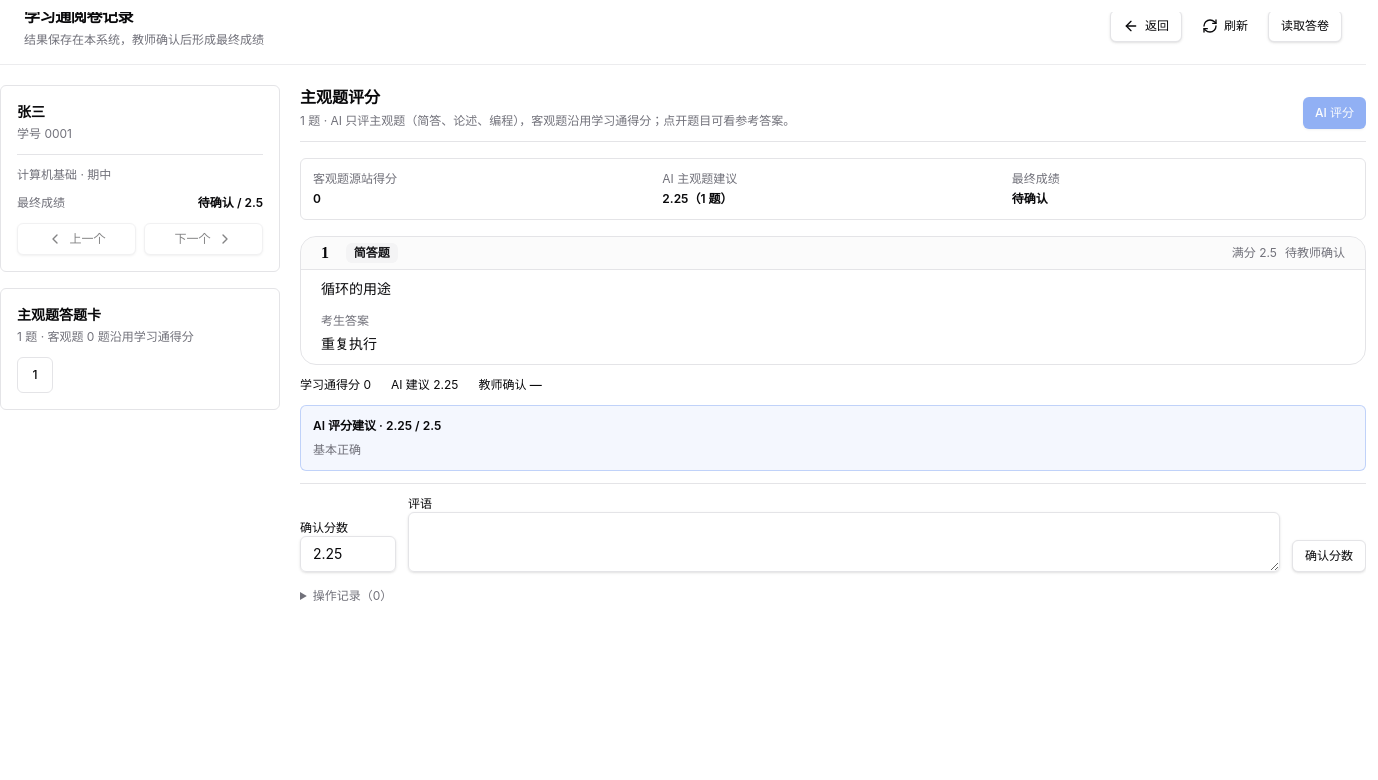
Test: 学习通结果复核 › 拦截超出满分的输入，并显示并发状态冲突
Replace the text in the number field named "第 1 题确认分数" with "3" at (348, 554), box [300, 536, 396, 572]
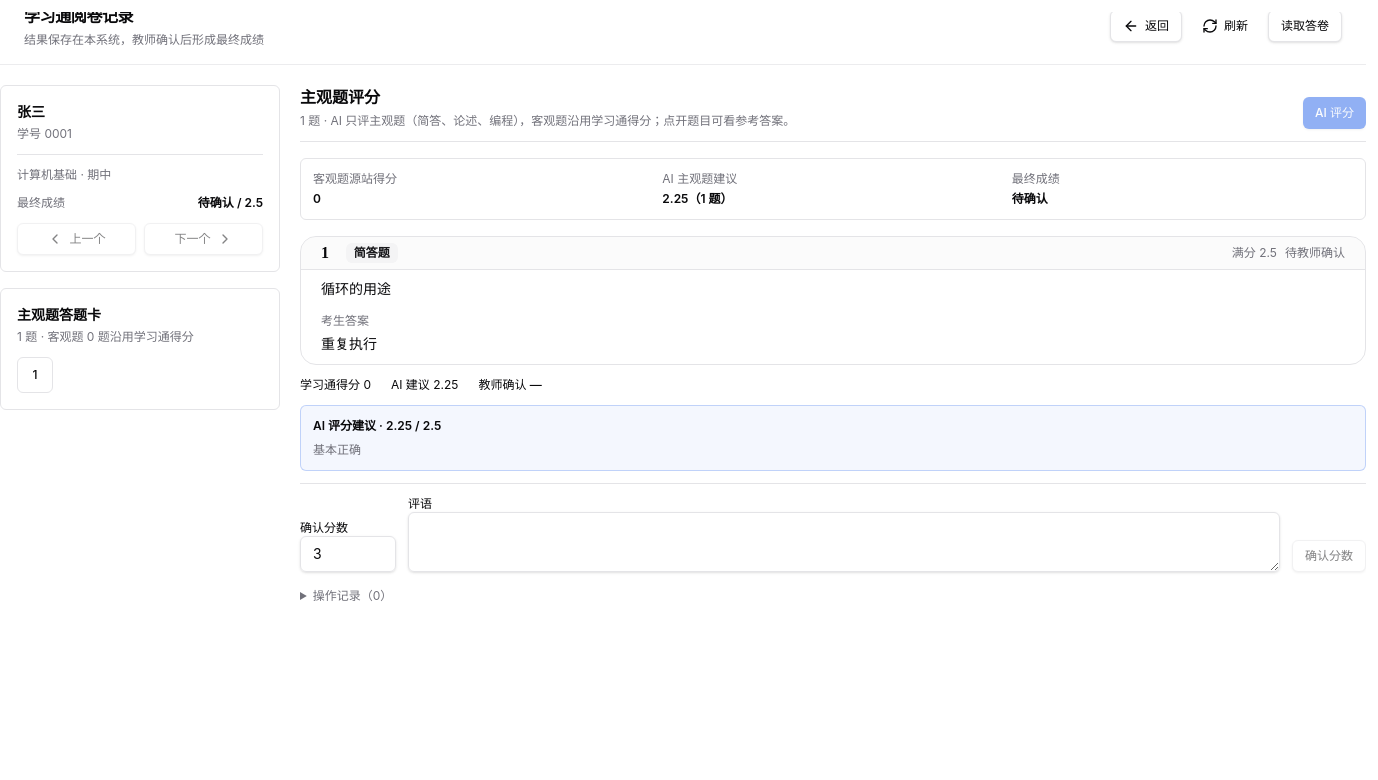
Result: the button "确认分数" is disabled at [1292, 540, 1366, 572]
Replace the text in the number field named "第 1 题确认分数" with "2" at (348, 554), box [300, 536, 396, 572]
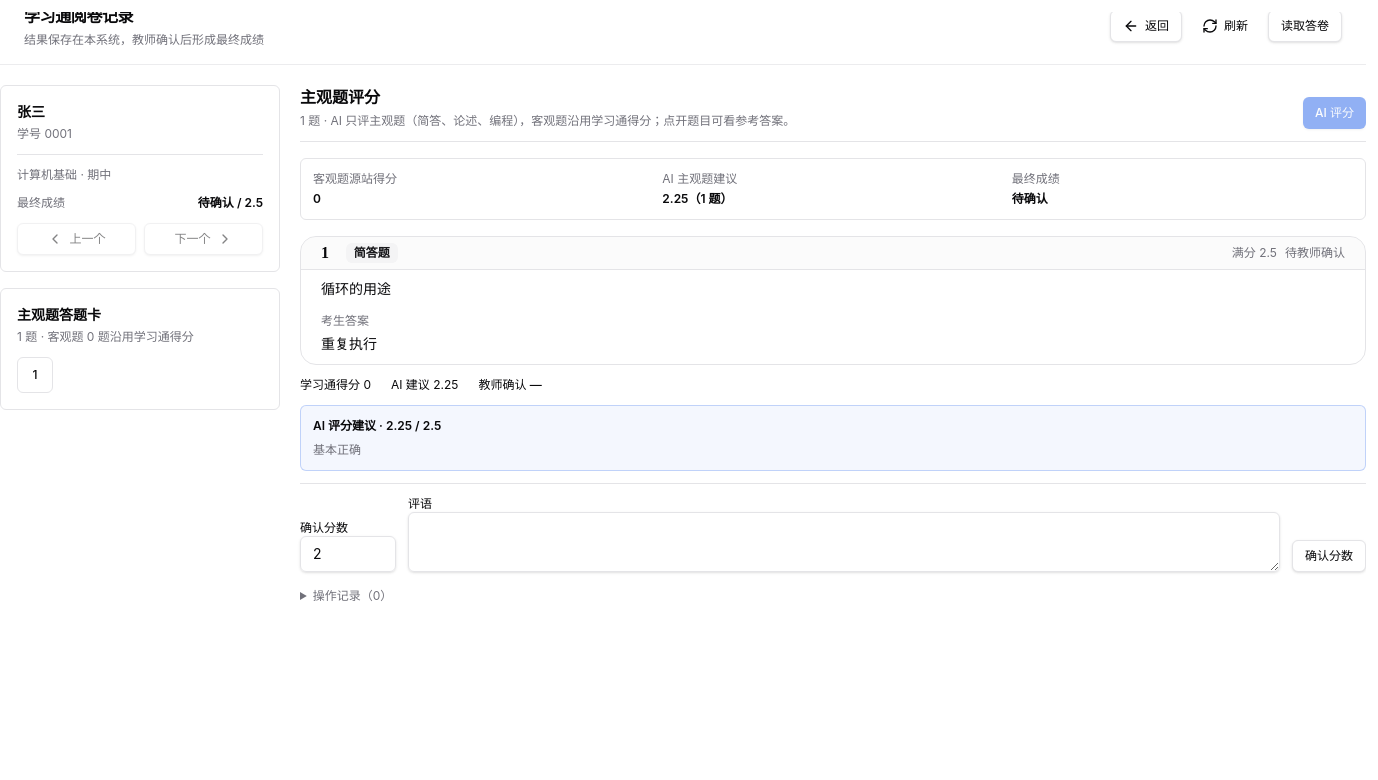
Click the button "确认分数" at (1329, 556), box [1292, 540, 1366, 572]
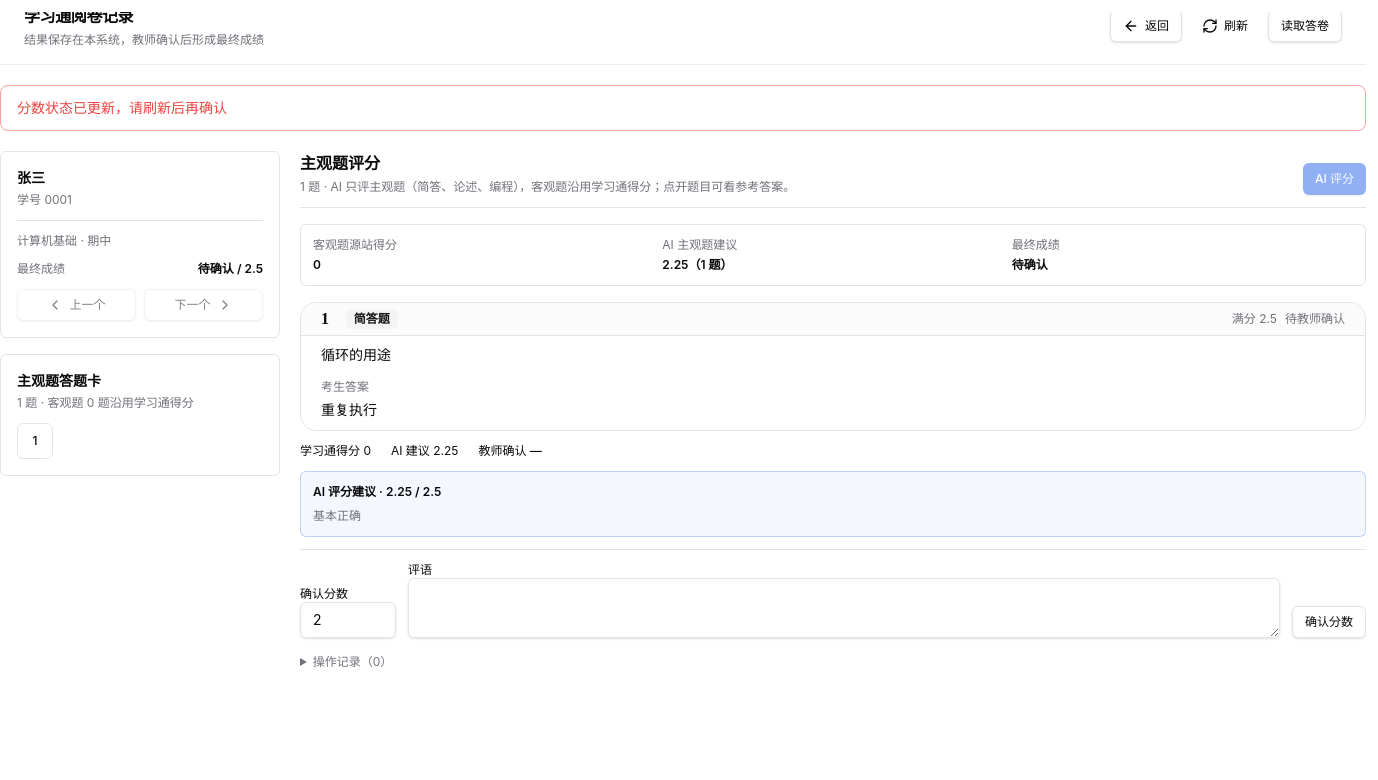
Expected: the element labelled "最终成绩" shows "待确认", [1012, 257, 1048, 272]
Result: the text "分数状态已更新，请刷新后再确认" is shown at [17, 99, 227, 116]
